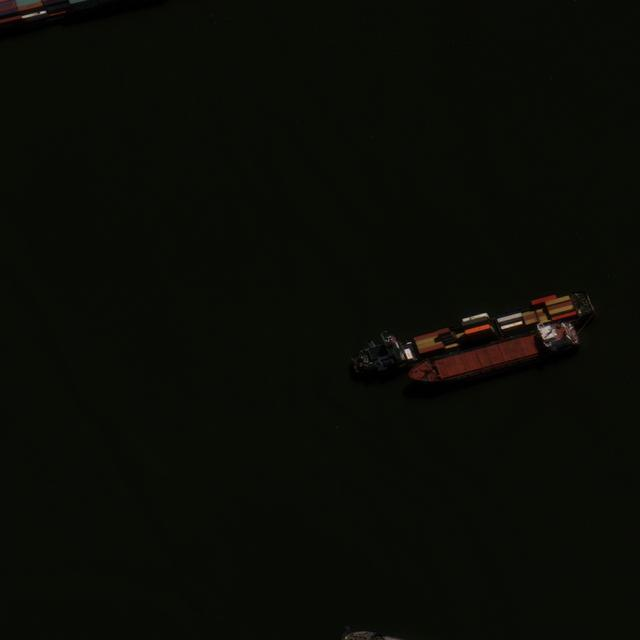Cargo: (405, 320, 581, 389)
Container Ship: (339, 281, 597, 379)
